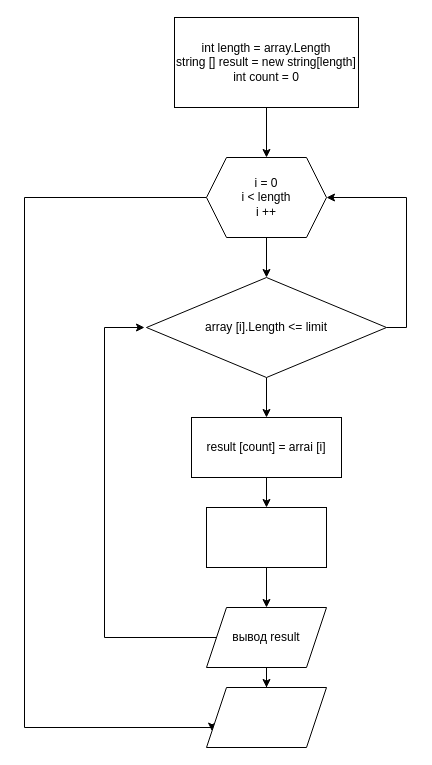
Some shapes in this 432 by 765 pixel diagram are drawn without their labels. Here are the shapes that lost their labels. From the top down, the centre of each, then its label:
At point (266, 537): "count ++".
At point (266, 717): "print array".
